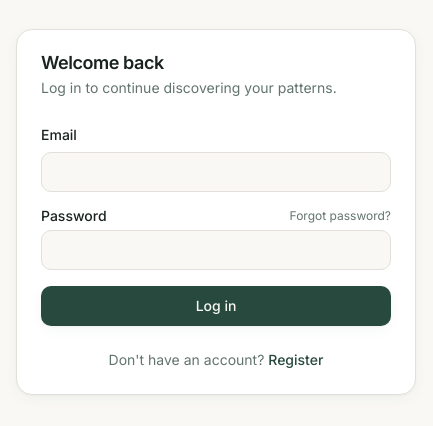
Test: Login › shows a validation error for an invalid email
Type "not-an-email" into the field labelled "Email". click: (216, 172)
box: 41,152 -> 391,192
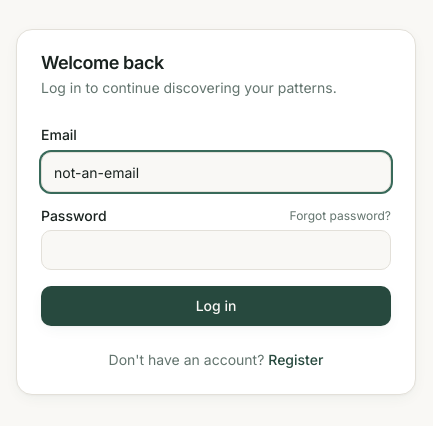
Type "password123" into the password field labelled "Password". click: (216, 250)
box: 41,230 -> 391,270
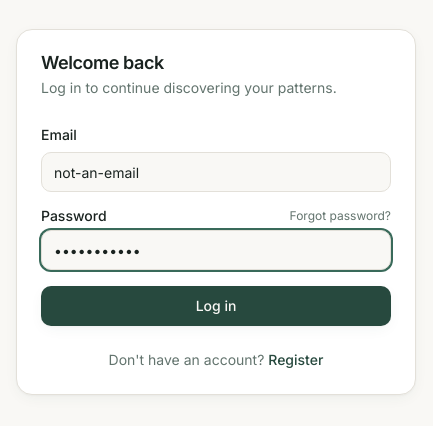
Click the button "Log in". click: (216, 306)
box: 41,286 -> 391,326
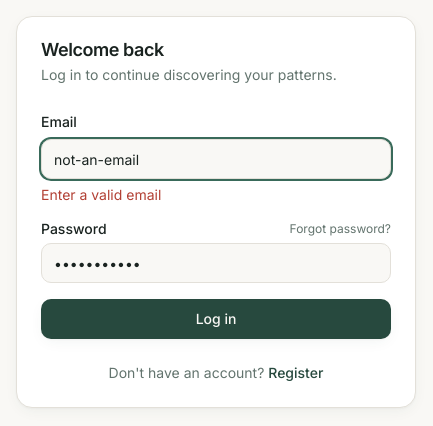
Expected: the text "Enter a valid email" is shown, 41,186 -> 161,203
